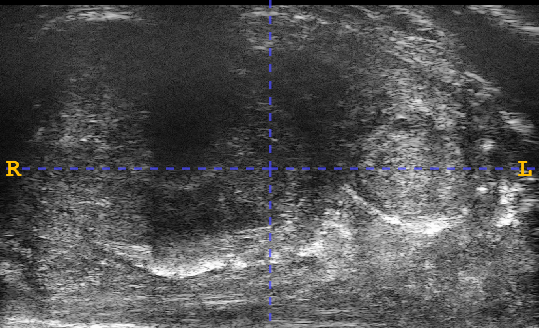calcifications: (271, 153, 404, 258), (172, 212, 403, 271)
